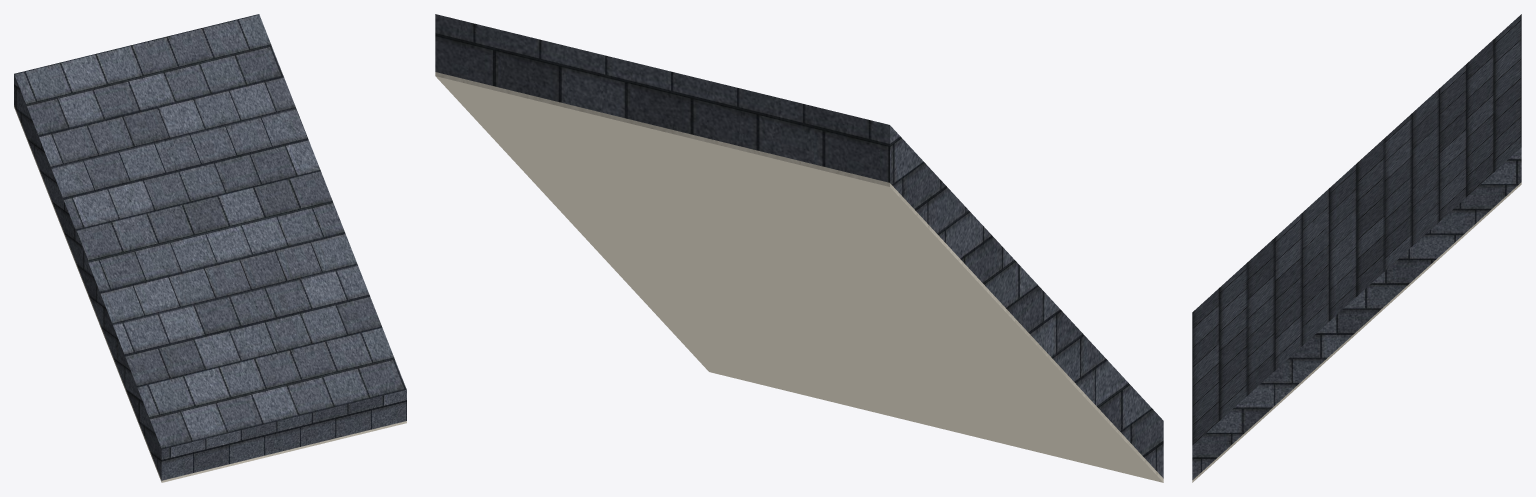
The model's file is roof_slope_end_l_g.glb.
3 views of the same model, side by side, from view 1: azimuth 30°, elevation 25°; view 2: azimuth 150°, elevation 25°; view 3: azimuth 270°, elevation 25° (orthographic). The views are drawn at different scales.
Visible parts, largest first — view 1: roof_slope_end_l_g_shingle_g, roof_slope_end_l_g_plaster; view 2: roof_slope_end_l_g_plaster, roof_slope_end_l_g_shingle_g; view 3: roof_slope_end_l_g_shingle_g, roof_slope_end_l_g_plaster.
Boxes of the visible parts, left/top/right/bottom form: roof_slope_end_l_g_shingle_g: left=14, top=14, right=406, bottom=480; roof_slope_end_l_g_plaster: left=14, top=105, right=406, bottom=482; roof_slope_end_l_g_plaster: left=435, top=72, right=1163, bottom=482; roof_slope_end_l_g_shingle_g: left=435, top=14, right=1163, bottom=478; roof_slope_end_l_g_shingle_g: left=1192, top=14, right=1521, bottom=479; roof_slope_end_l_g_plaster: left=1192, top=182, right=1521, bottom=482.
Size of the model in its own units: 2.3 by 2.7 by 2.4.
2 materials, 2 textured.
